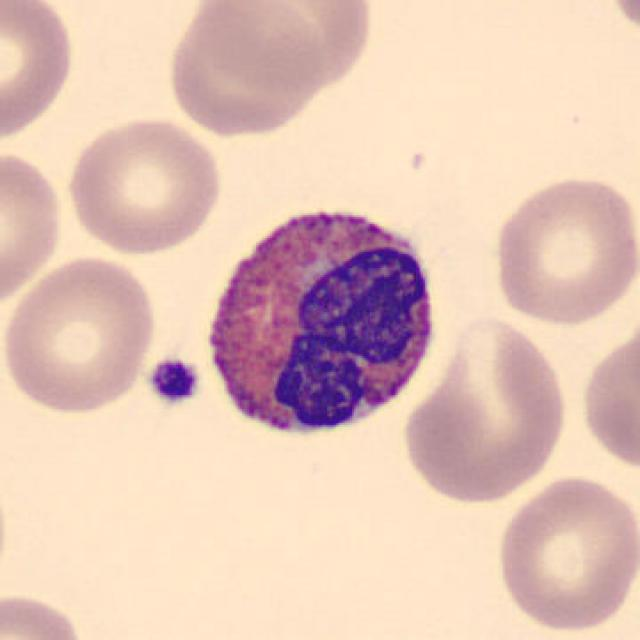Eosinophil: (192, 190, 450, 455)
Platelets: (144, 354, 203, 408)
RBC: (398, 312, 572, 508), (0, 252, 160, 416), (491, 470, 638, 634), (487, 169, 638, 328), (60, 113, 226, 257), (162, 3, 336, 139), (192, 0, 379, 97), (0, 0, 80, 146), (0, 143, 68, 308), (576, 316, 638, 480), (0, 589, 91, 640), (599, 0, 640, 44)
